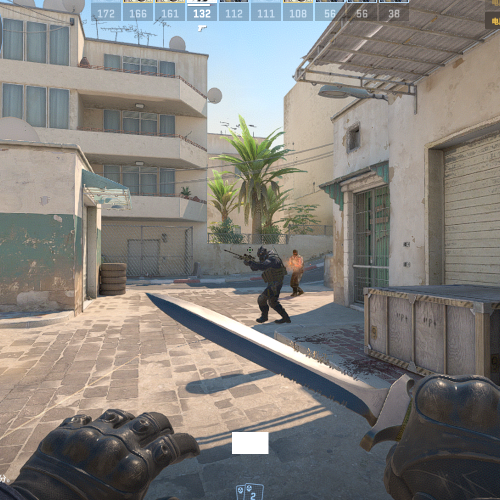ct_body: (250, 245, 291, 325)
ct_head: (257, 245, 270, 262)
t_body: (287, 249, 305, 297)
t_head: (292, 249, 299, 258)
